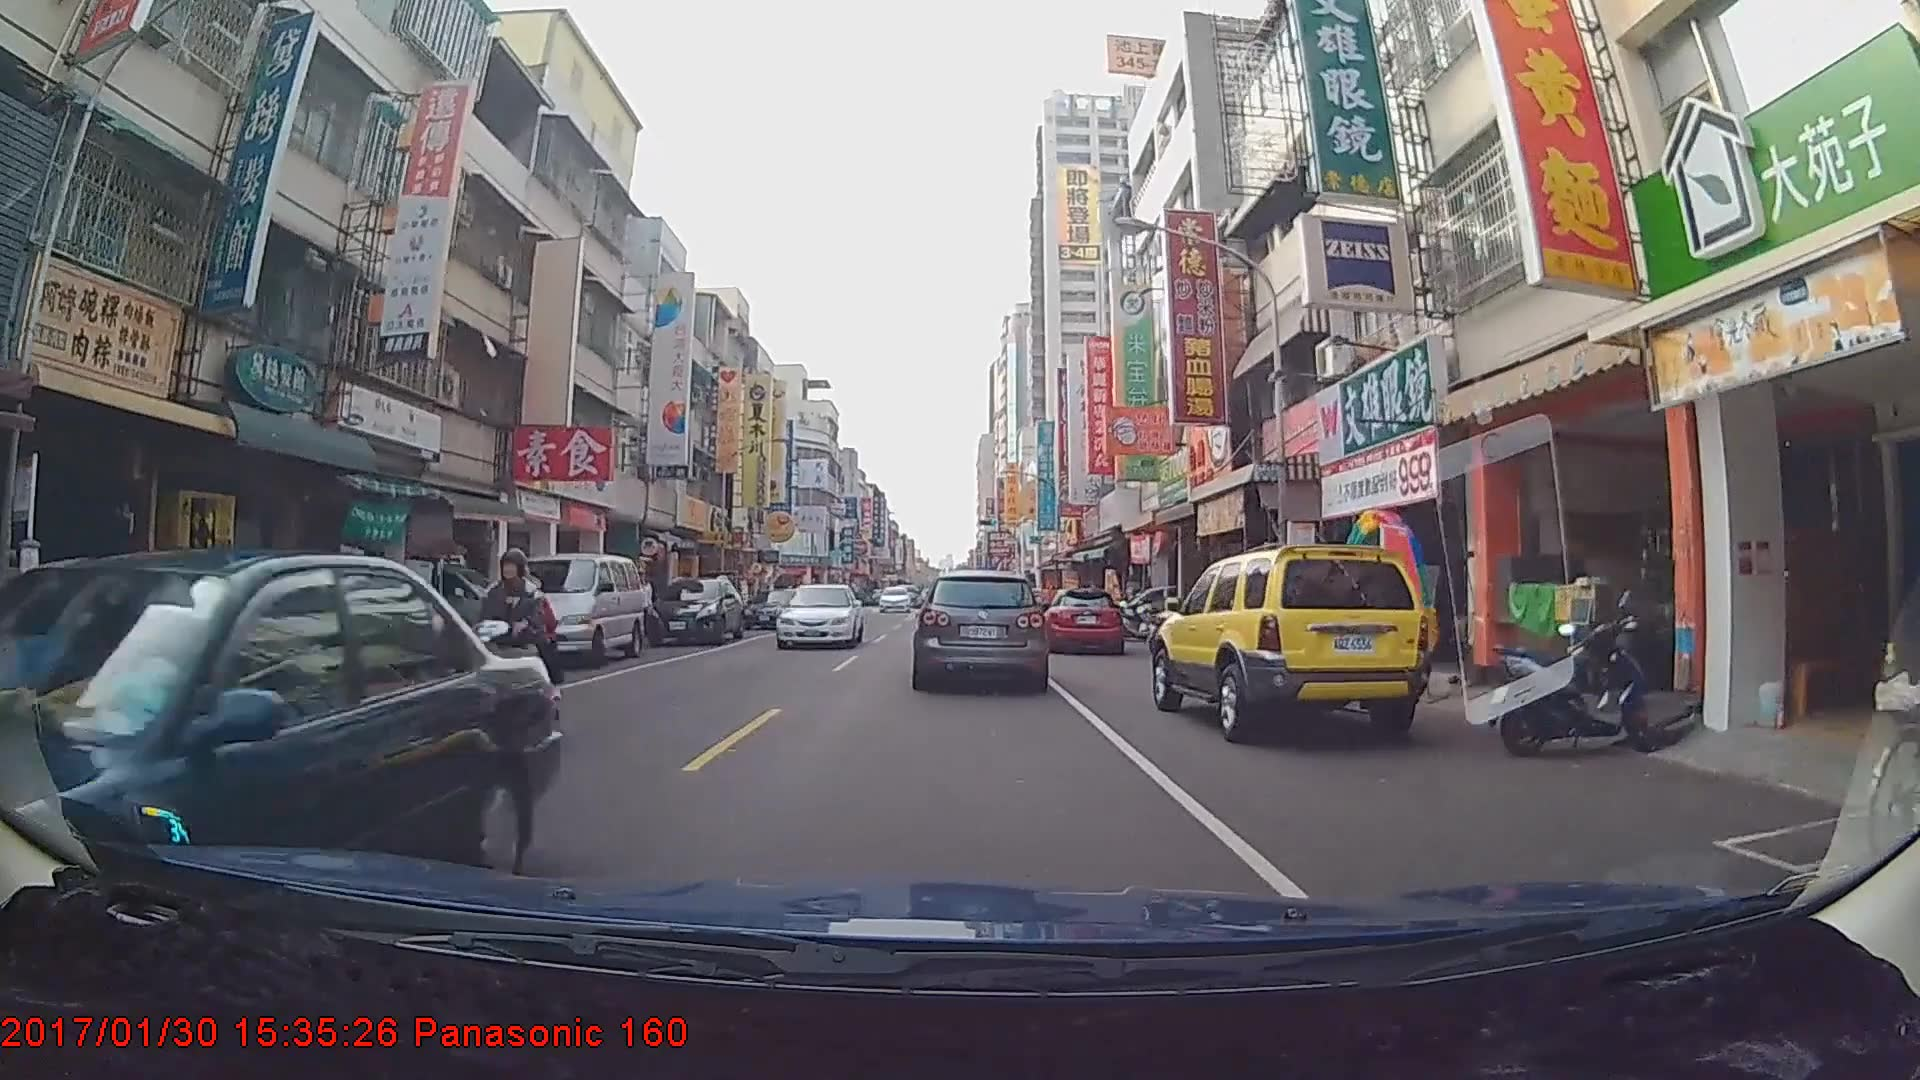rider: (459, 543, 565, 765)
vehicle: (0, 546, 559, 963), (1152, 538, 1431, 739), (504, 549, 644, 670), (916, 566, 1046, 690), (640, 575, 744, 645), (775, 583, 864, 650), (1040, 588, 1125, 655), (743, 588, 805, 630), (878, 586, 911, 614)
